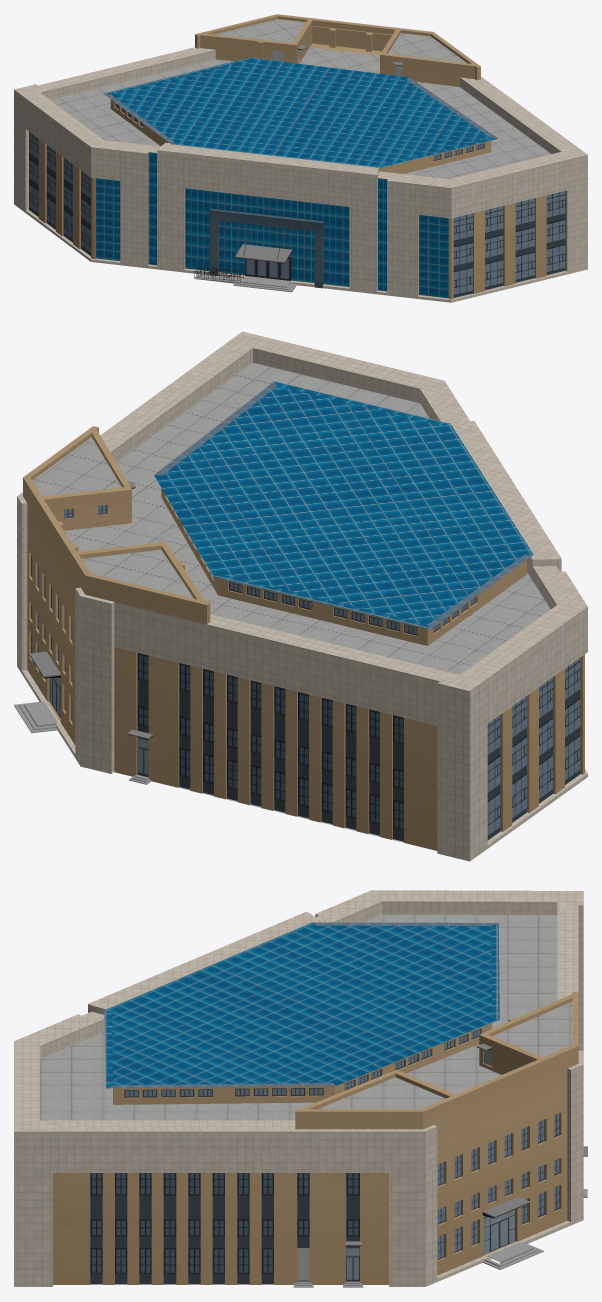
The picture shows the model from 3 angles, top to bottom: view 1: azimuth 30°, elevation 25°; view 2: azimuth 150°, elevation 25°; view 3: azimuth 270°, elevation 25°; orthographic projection. The views are drawn at different scales.
Parts seen in each view (by area): view 1: MERGE_外墙, MERGE_蓝玻璃, MERGE_木质结构, MERGE_格子地板, MERGE_落地大窗, MERGE_蓝色大门, MERGE_水泥, MERGE_后门窗, MERGE_玻璃, MERGE_黑铁; view 2: MERGE_外墙, MERGE_蓝玻璃, MERGE_木质结构, MERGE_格子地板, MERGE_落地窄窗, MERGE_落地大窗, MERGE_小窗, MERGE_水泥; view 3: MERGE_木质结构, MERGE_外墙, MERGE_蓝玻璃, MERGE_格子地板, MERGE_落地窄窗, MERGE_小窗 (×2), MERGE_标准窗, MERGE_水泥, MERGE_方门窗, MERGE_玻璃, MERGE_单门.
Boxes of the visible parts, x1=… form: MERGE_外墙: x1=14, y1=47, x2=587, y2=302; MERGE_蓝玻璃: x1=96, y1=57, x2=498, y2=298; MERGE_木质结构: x1=38, y1=14, x2=546, y2=299; MERGE_格子地板: x1=50, y1=19, x2=551, y2=179; MERGE_落地大窗: x1=29, y1=131, x2=565, y2=297; MERGE_蓝色大门: x1=209, y1=208, x2=323, y2=288; MERGE_水泥: x1=194, y1=274, x2=296, y2=292; MERGE_后门窗: x1=245, y1=257, x2=291, y2=280; MERGE_玻璃: x1=235, y1=45, x2=403, y2=262; MERGE_黑铁: x1=194, y1=48, x2=401, y2=281; MERGE_外墙: x1=17, y1=331, x2=587, y2=861; MERGE_蓝玻璃: x1=154, y1=381, x2=533, y2=629; MERGE_木质结构: x1=23, y1=426, x2=584, y2=850; MERGE_格子地板: x1=32, y1=362, x2=550, y2=674; MERGE_落地窄窗: x1=137, y1=653, x2=403, y2=841; MERGE_落地大窗: x1=487, y1=658, x2=580, y2=840; MERGE_小窗: x1=213, y1=577, x2=475, y2=635; MERGE_水泥: x1=14, y1=701, x2=403, y2=842; MERGE_木质结构: x1=53, y1=992, x2=578, y2=1284; MERGE_外墙: x1=14, y1=890, x2=583, y2=1286; MERGE_蓝玻璃: x1=104, y1=922, x2=499, y2=1088; MERGE_格子地板: x1=40, y1=914, x2=572, y2=1120; MERGE_落地窄窗: x1=90, y1=1173, x2=359, y2=1283; MERGE_小窗 (×2): x1=124, y1=1028, x2=560, y2=1224; MERGE_标准窗: x1=438, y1=1113, x2=560, y2=1259; MERGE_水泥: x1=90, y1=1189, x2=587, y2=1287; MERGE_方门窗: x1=484, y1=1209, x2=515, y2=1254; MERGE_玻璃: x1=345, y1=1043, x2=587, y2=1245; MERGE_单门: x1=297, y1=1049, x2=492, y2=1280.
Size of what is drawn, in the model's own units: 6771 by 2259 by 6782.
19 materials, 16 textured.
